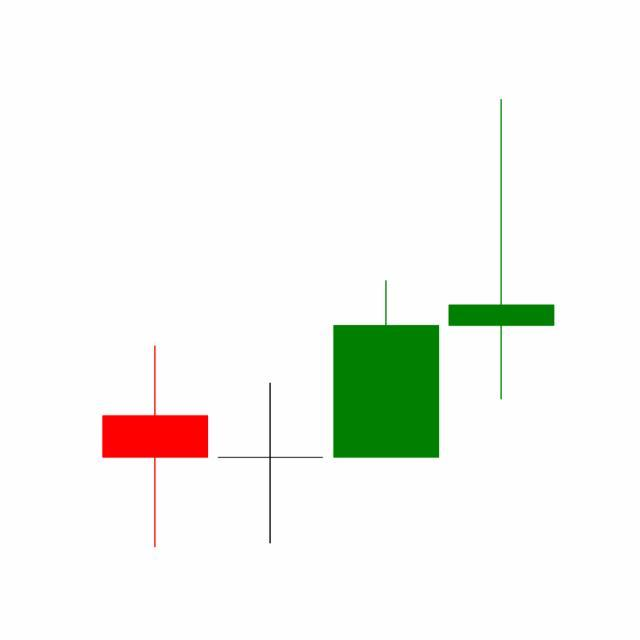Spinning Top: (444, 97, 560, 404)
